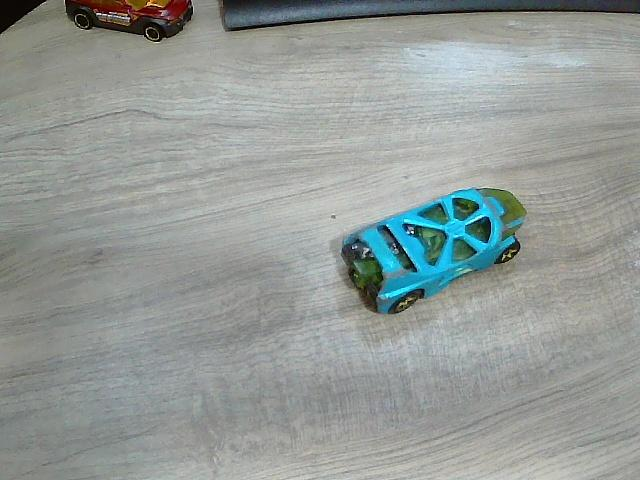Carro: (337, 188, 529, 316), (63, 0, 194, 42)
